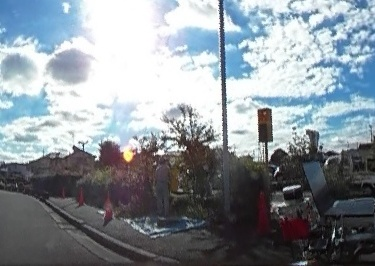person: (151, 156, 173, 216)
